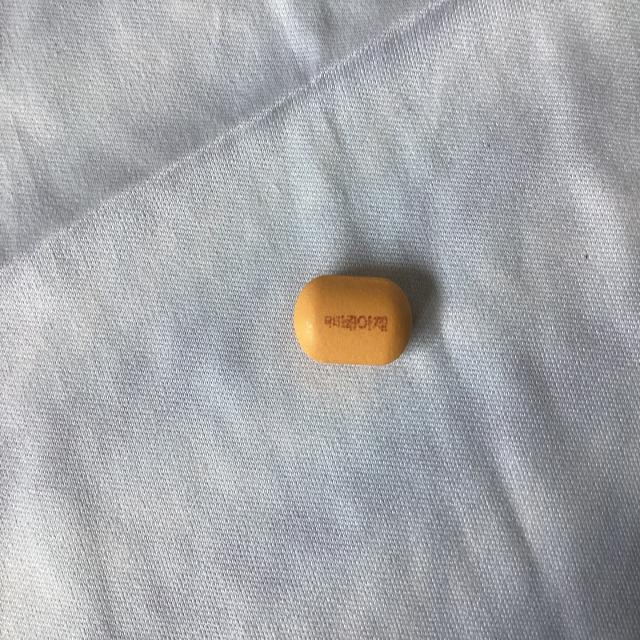-: (287, 259, 421, 371)
